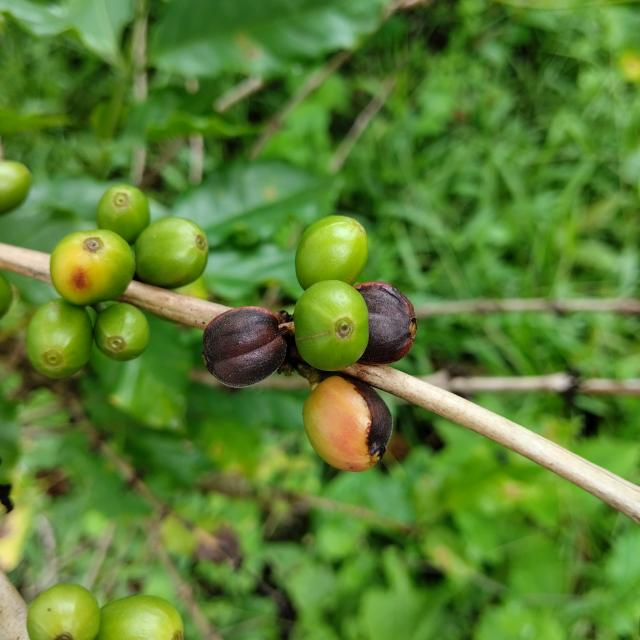green: (294, 280, 369, 371), (295, 215, 368, 290), (25, 299, 92, 379), (26, 585, 100, 640), (94, 596, 183, 640), (93, 303, 149, 361)
red: (303, 376, 393, 472), (202, 306, 287, 388), (355, 281, 417, 365)
